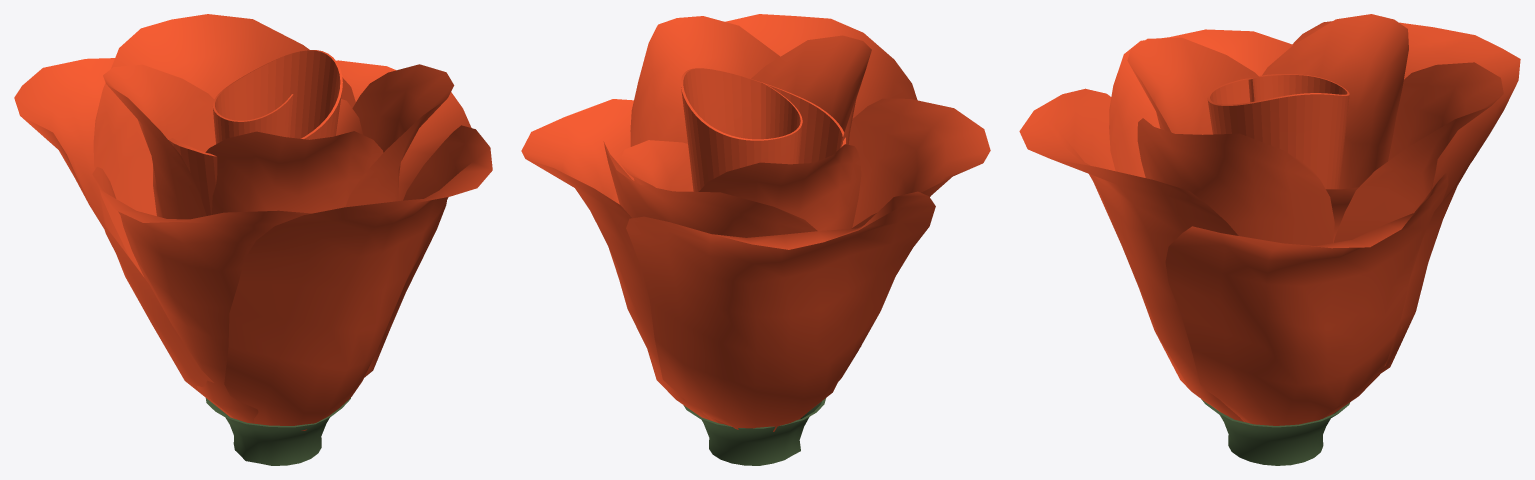
File: flower.fbx
The picture shows the model from 3 angles, left to right: view 1: azimuth 30°, elevation 25°; view 2: azimuth 150°, elevation 25°; view 3: azimuth 270°, elevation 25°; orthographic projection. The views are drawn at different scales.
Visible parts, largest first — view 1: pPlane10, pCylinder1; view 2: pPlane10, pCylinder1; view 3: pPlane10, pCylinder1.
Boxes of the visible parts, x1,y1,x2,y2 form: pPlane10: [14, 14, 492, 430]; pCylinder1: [205, 398, 350, 465]; pPlane10: [521, 14, 990, 431]; pCylinder1: [683, 398, 825, 465]; pPlane10: [1019, 14, 1520, 425]; pCylinder1: [1201, 399, 1349, 465].
Bounding box in the file's own units: 4.57 × 4.09 × 4.88.
